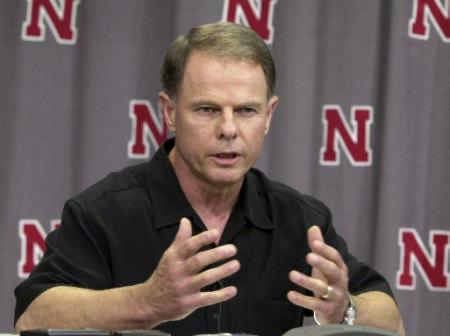Face: (177, 59, 273, 190)
